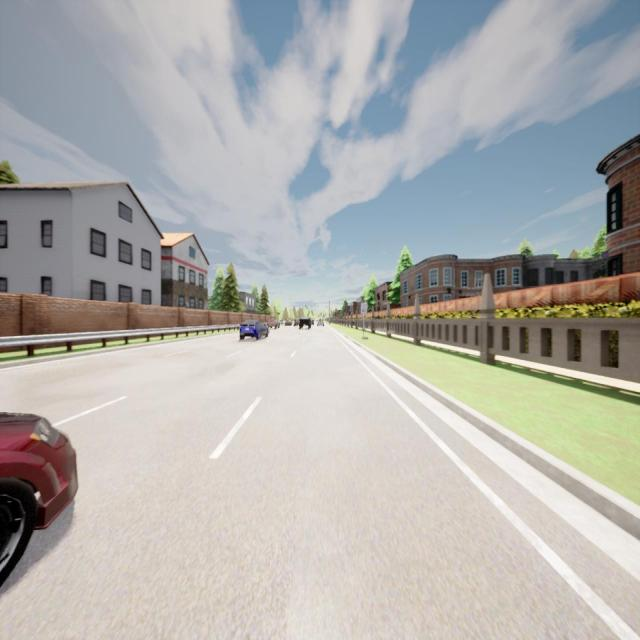Traffic_Signs: (360, 303, 368, 313)
Vehicle: (0, 412, 78, 584), (239, 320, 267, 341), (300, 316, 314, 331), (268, 317, 280, 329), (285, 319, 292, 327), (318, 318, 324, 327), (295, 318, 299, 327)
